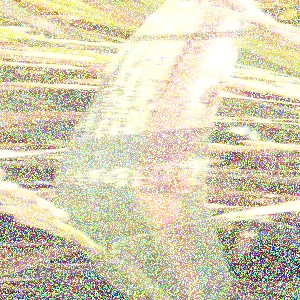Leaf_Blast: (91, 36, 211, 300)
